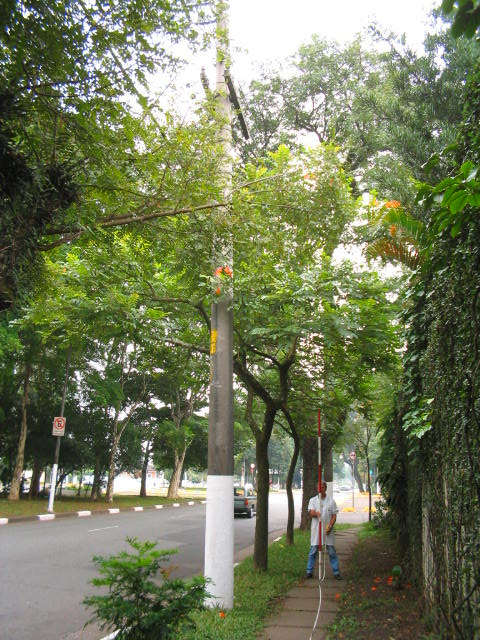crown: (18, 100, 401, 398)
stem: (241, 435, 279, 568)
stick: (310, 410, 326, 579)
tree: (16, 100, 401, 569)
